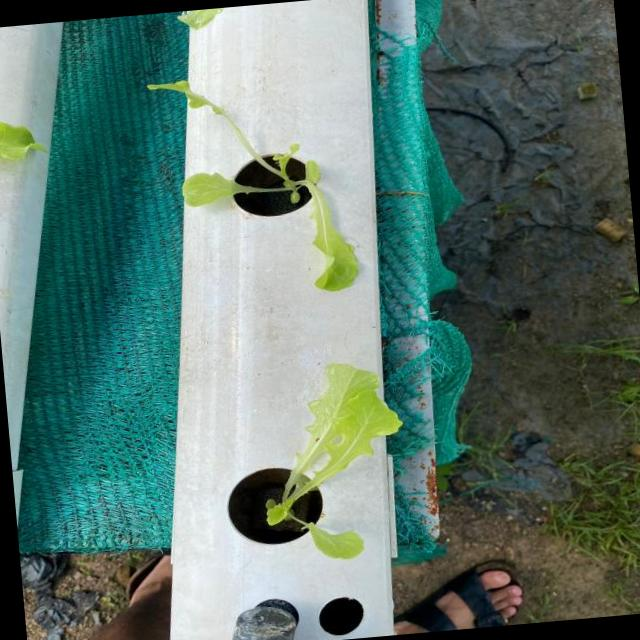Lettuce-Not-Ready-to-Harvest: (150, 81, 357, 290), (266, 363, 400, 557), (0, 121, 47, 160)
